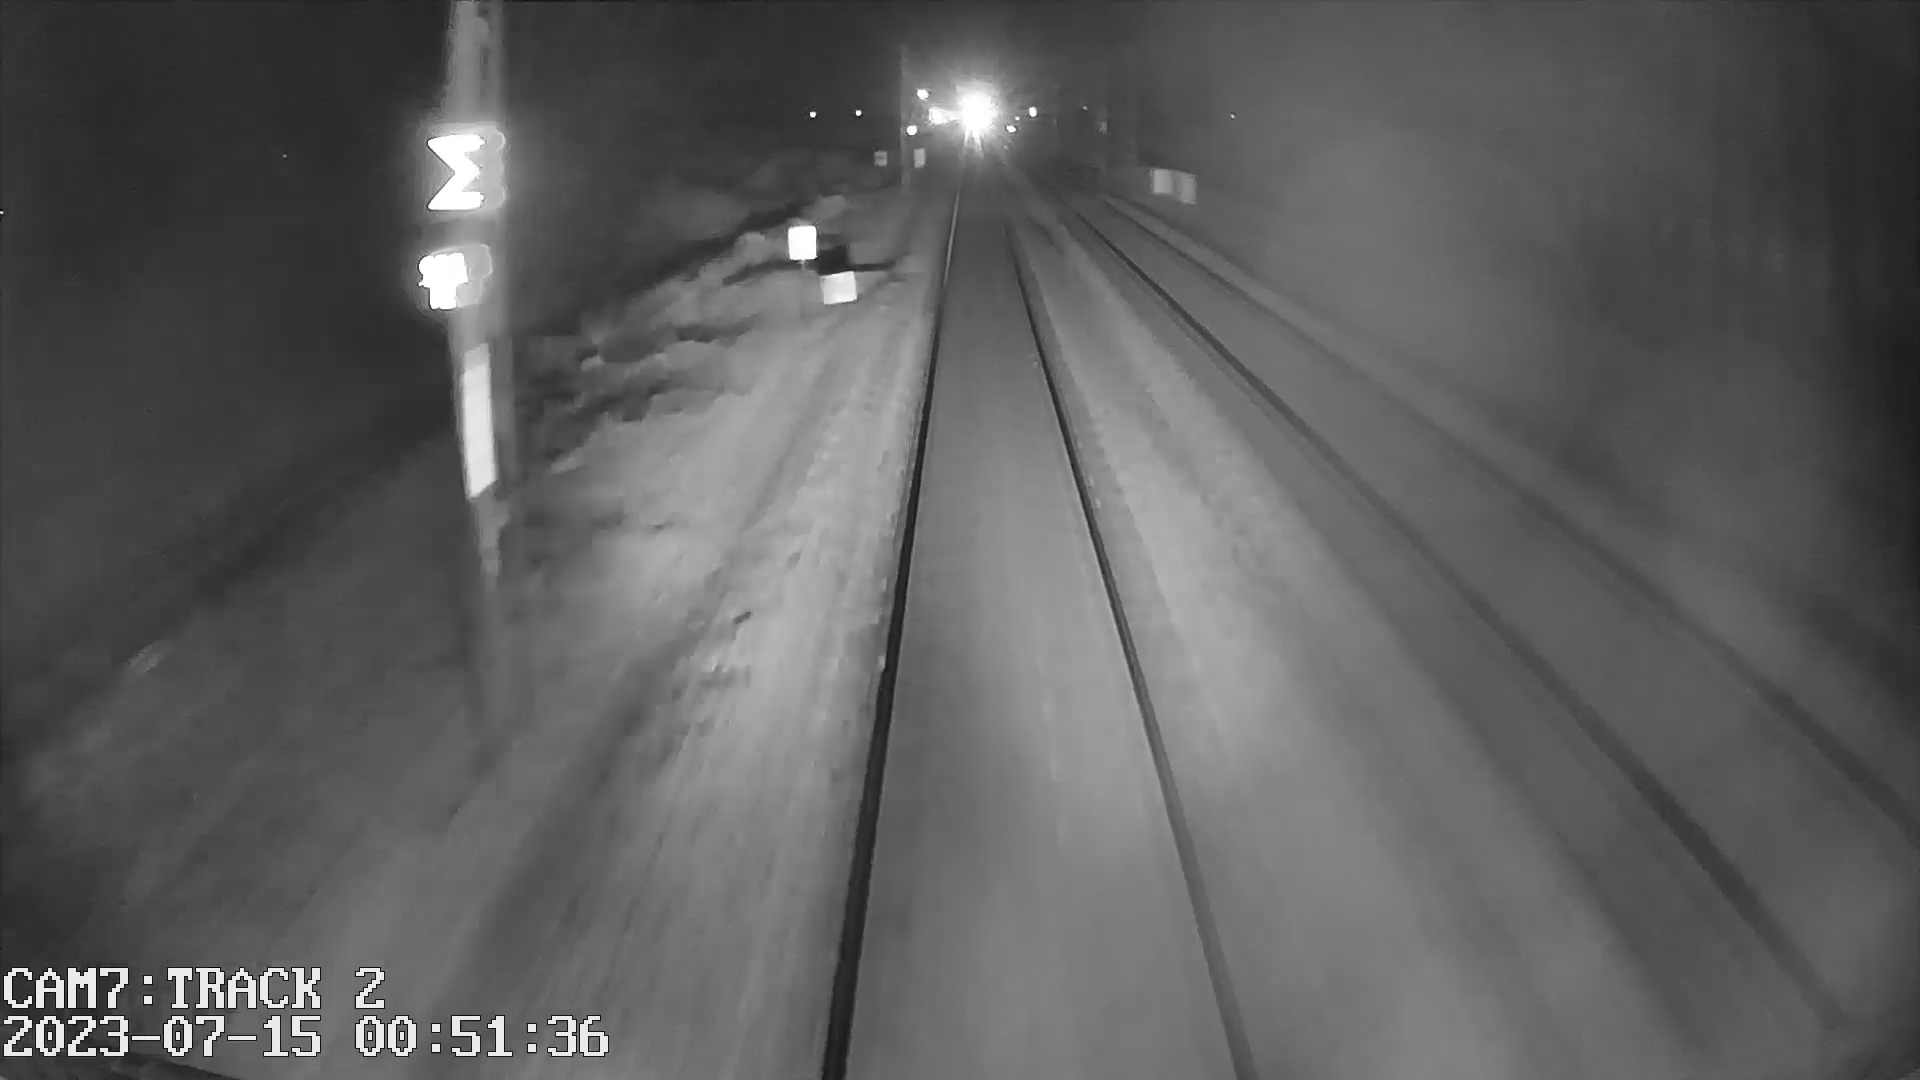track1: (836, 180, 1244, 1050)
track2: (1063, 186, 1908, 941)
